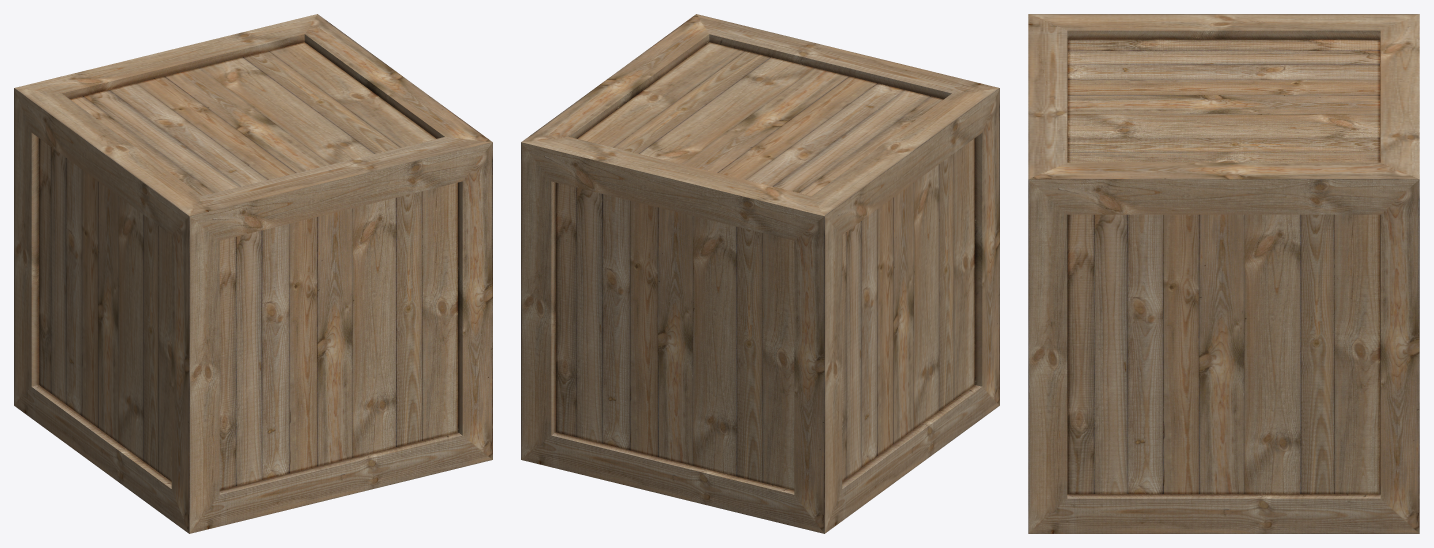
Rendered from SM_WoodCrate1.fbx.
3 views of the same model, side by side, from view 1: azimuth 30°, elevation 25°; view 2: azimuth 150°, elevation 25°; view 3: azimuth 270°, elevation 25° (orthographic). The views are drawn at different scales.
Visible parts, largest first — view 1: pCube1; view 2: pCube1; view 3: pCube1.
Part boxes in pixels (bbox=[...]): pCube1: bbox=[14, 14, 492, 533]; pCube1: bbox=[521, 14, 999, 533]; pCube1: bbox=[1028, 14, 1419, 533].
Size of the model in its own units: 80 by 80 by 80.
